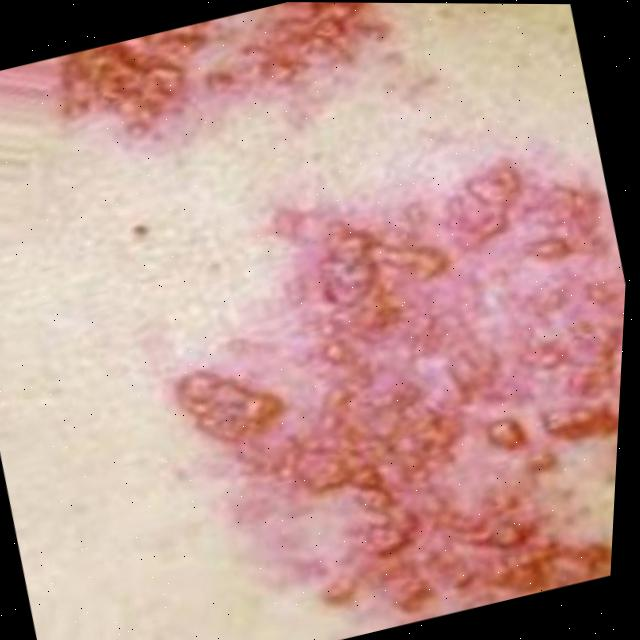Shingles: (130, 146, 632, 640), (52, 0, 423, 139)
